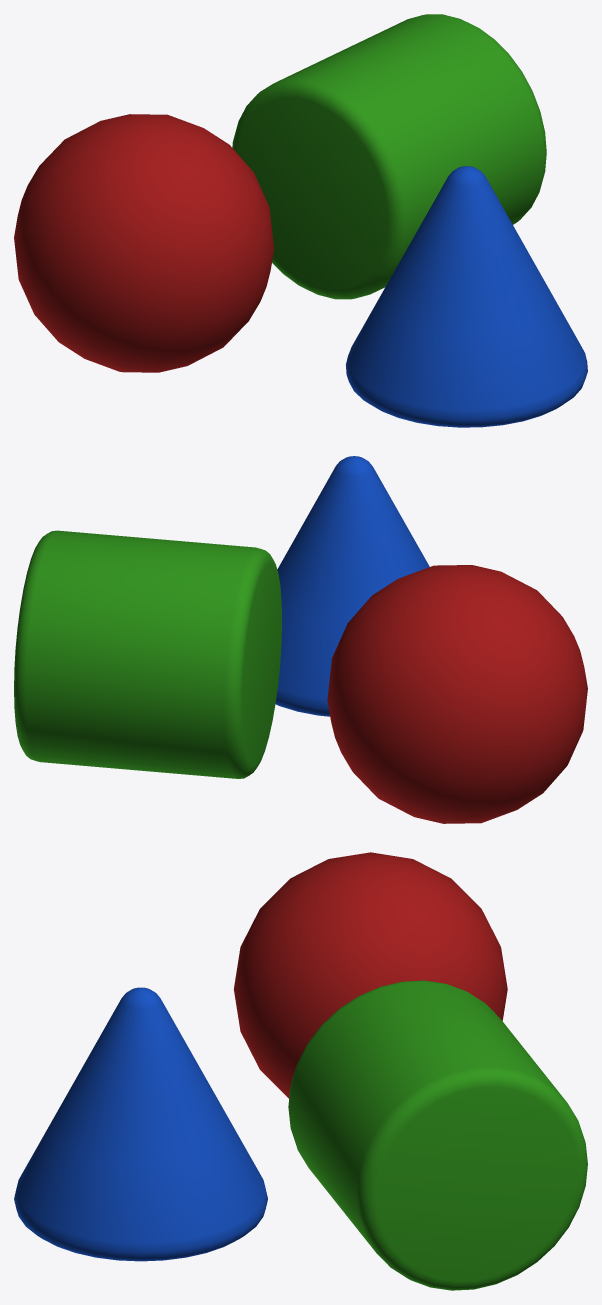
The model's file is Primitives.glb.
The picture shows the model from 3 angles, top to bottom: view 1: azimuth 30°, elevation 25°; view 2: azimuth 150°, elevation 25°; view 3: azimuth 270°, elevation 25°; orthographic projection. The views are drawn at different scales.
Parts seen in each view (by area): view 1: Cone; view 2: Cone; view 3: Cone.
Part boxes in pixels (x1,y1,x2,y2): Cone: (14,14,587,427); Cone: (14,456,587,823); Cone: (14,852,587,1290).
Size of the model in its own units: 24.46 by 10.78 by 22.58.
